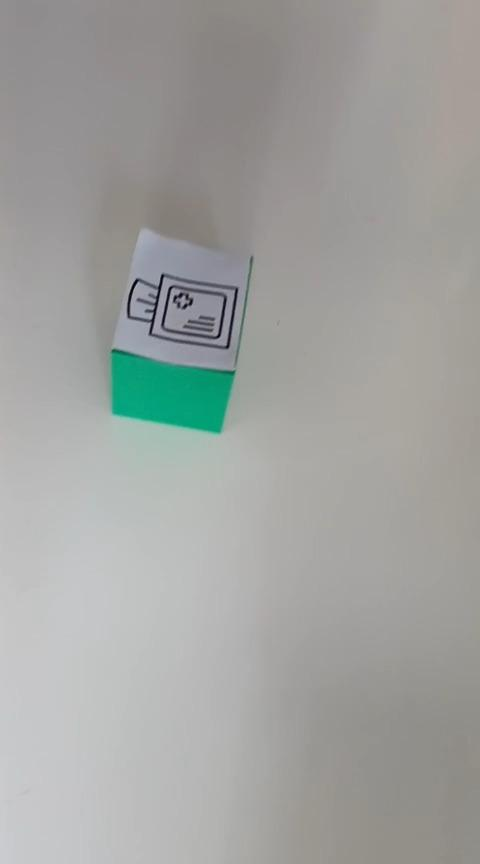Gauze: (109, 225, 254, 434)
